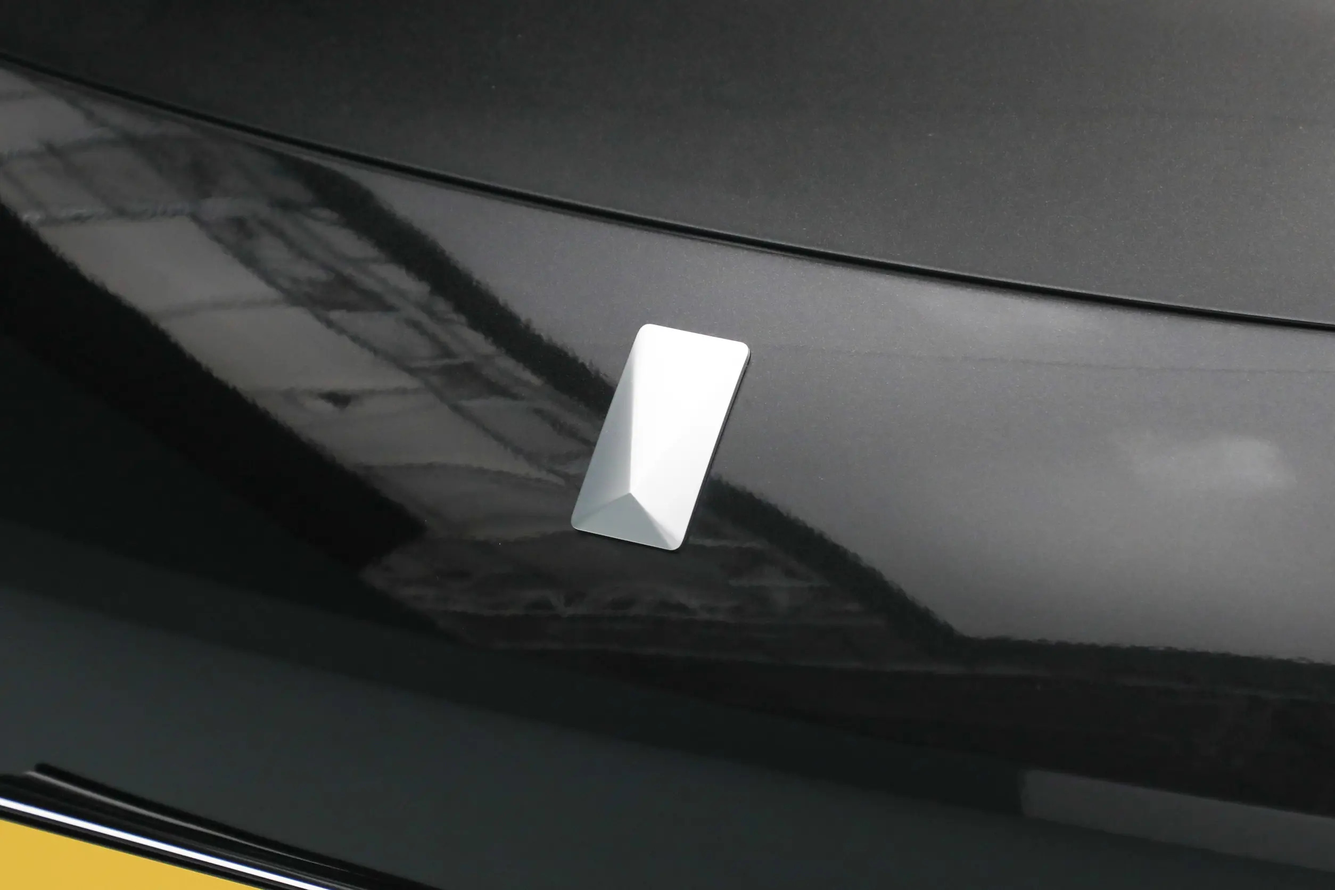AVATR: (571, 324, 750, 550)
